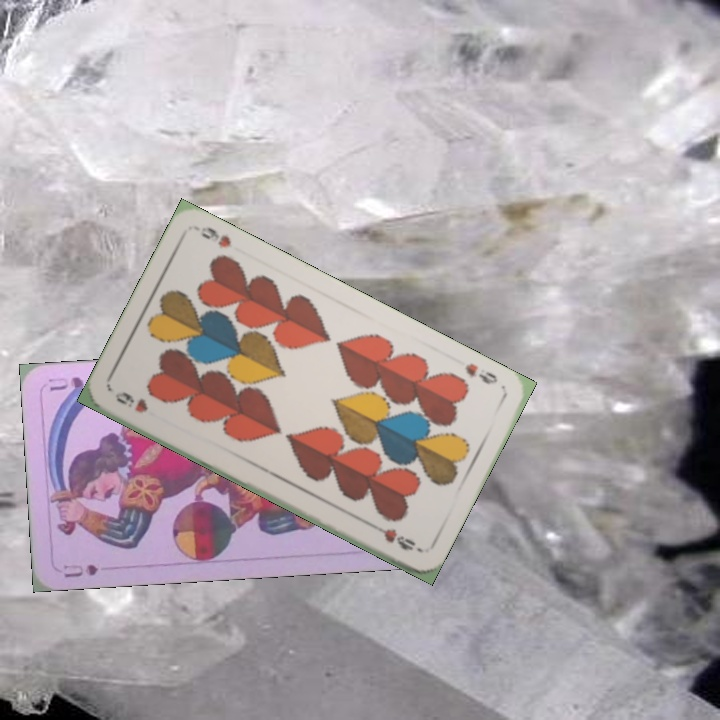H9: (110, 387, 151, 416), (461, 358, 501, 387)
SU: (59, 560, 101, 581)
